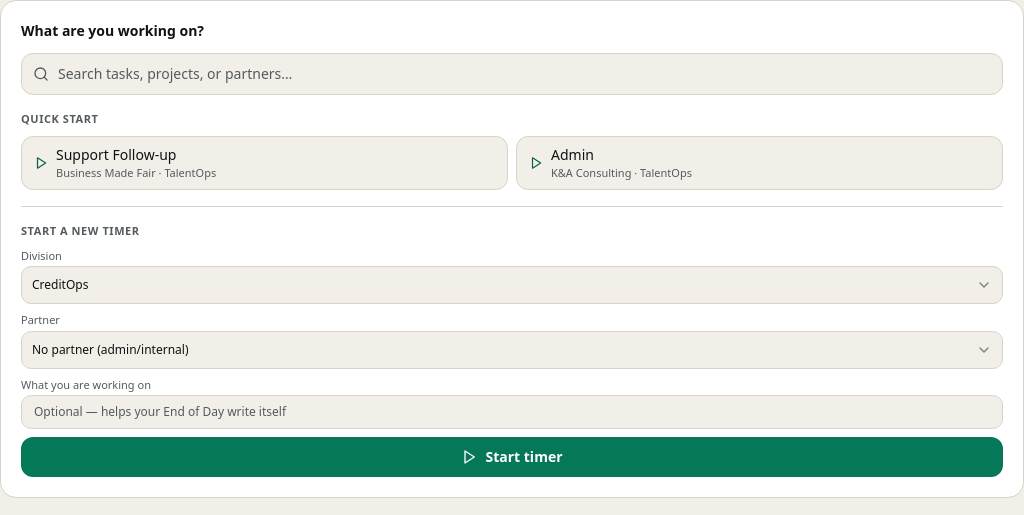
Test: starting work › says so rather than showing an empty area when nothing matches
The width and height of the screenshot is (1024, 515).
In the field named "Search your recent work": (512, 74) [21, 53, 1003, 95], type "zzz"
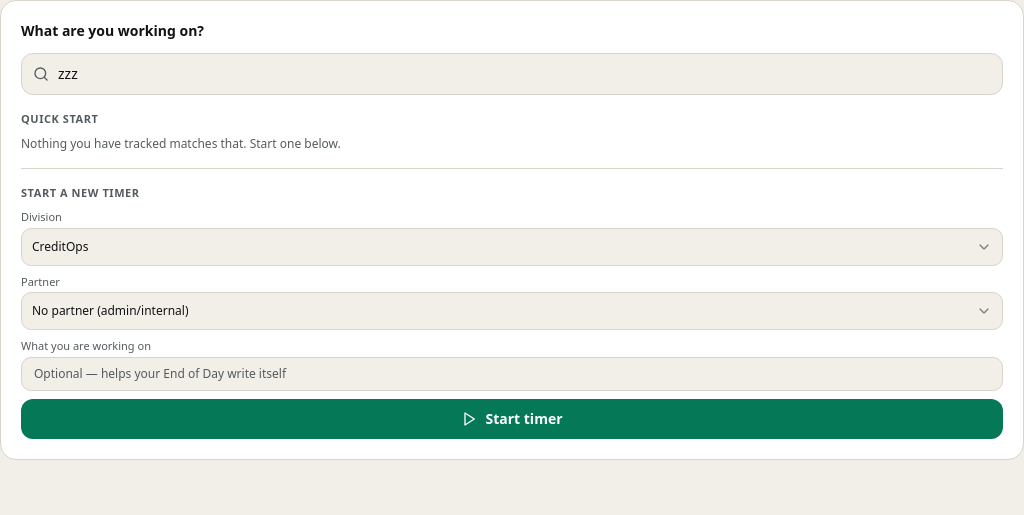
Expected: the text "Nothing you have tracked matches that. Start one below." is shown, [21, 134, 341, 152]
